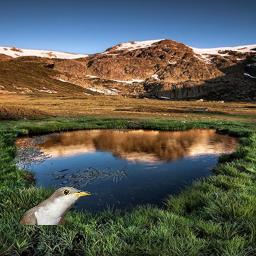Cuckoo: (18, 186, 92, 225)
